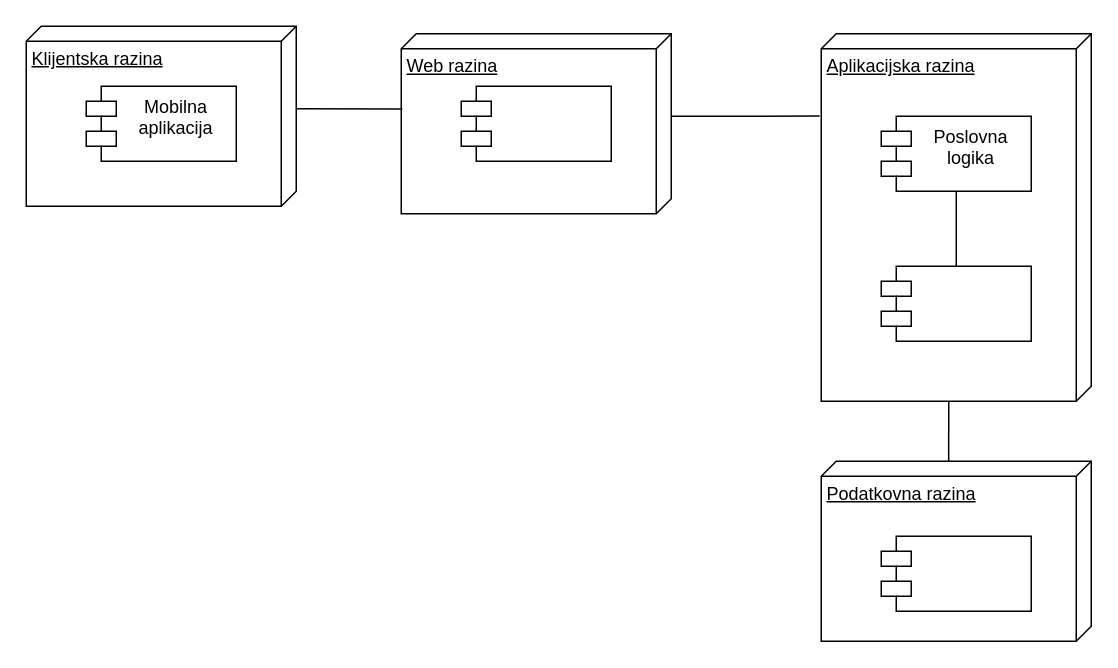
The diagram is 1118 pixels wide and 668 high, and some of its shapes have lost their labels. Each missing label, with the centre of its shape:
"Pristup podacima" goes at (955,303).
"SQL baza podataka" goes at (955,573).
"Web aplikacija" goes at (535,123).
